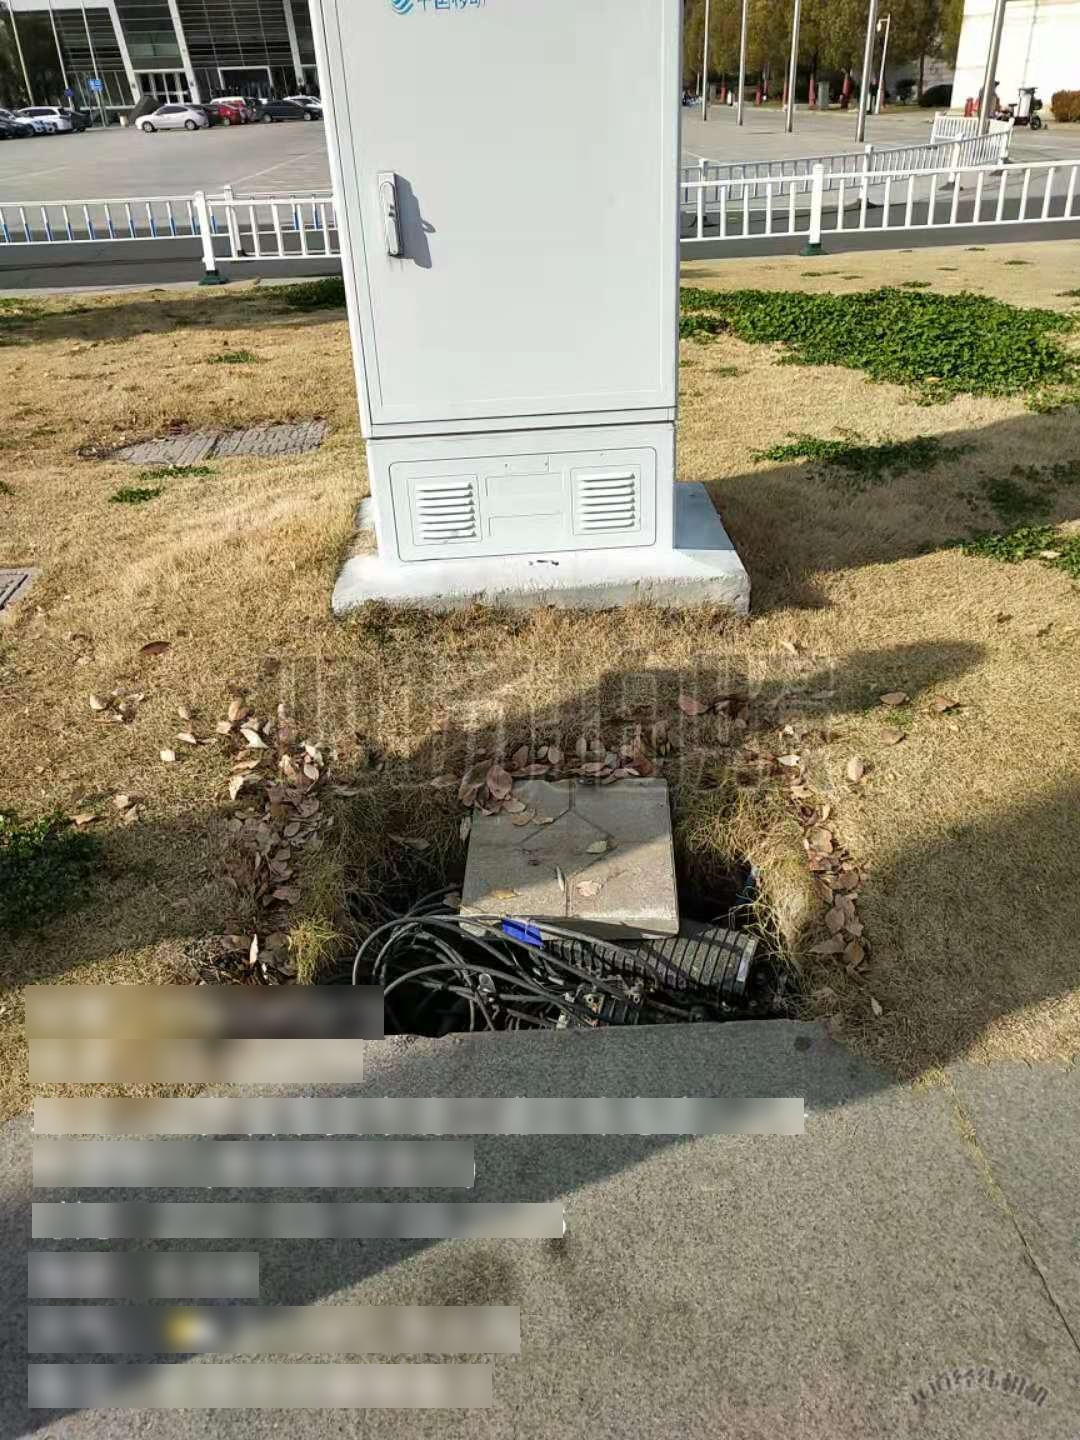lose: (230, 752, 828, 1043)
